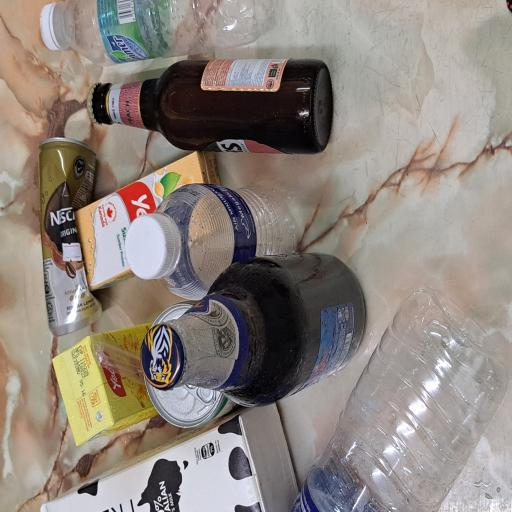can: (130, 52, 280, 137), (62, 192, 159, 319)
drink carton: (0, 52, 83, 401), (168, 98, 272, 292), (48, 70, 145, 213)
glass bottle: (79, 186, 197, 486), (269, 116, 340, 444)
plastic bottle: (0, 382, 170, 512), (160, 213, 247, 396), (336, 79, 384, 366)
plastic bottle cap: (173, 166, 226, 240), (346, 52, 384, 85)
pop tab: (80, 243, 99, 288)
